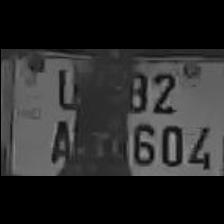0: (155, 118, 183, 166)
2: (146, 66, 178, 114)
4: (183, 117, 212, 169)
6: (128, 118, 156, 166)
8: (122, 64, 148, 112)
A: (44, 113, 72, 169)
U: (48, 60, 84, 113)
